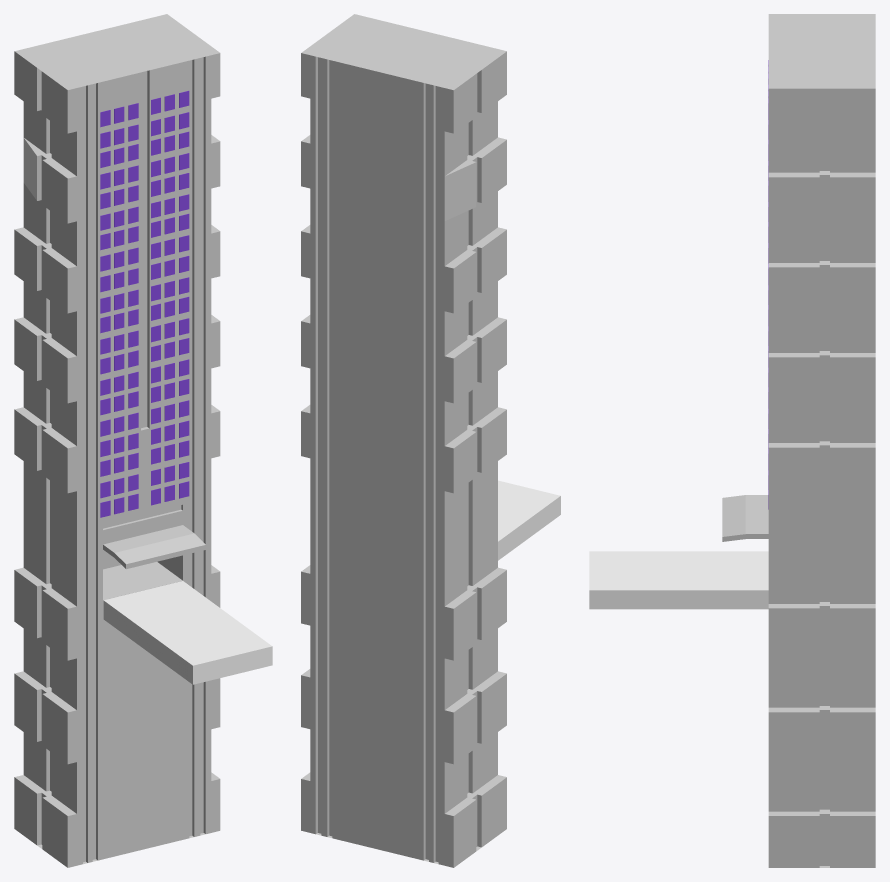
File: Building_V7.fbx
3 views of the same model, side by side, from view 1: azimuth 30°, elevation 25°; view 2: azimuth 150°, elevation 25°; view 3: azimuth 270°, elevation 25° (orthographic).
Parts seen in each view (by area): view 1: Cube, StartPlat; view 2: Cube, StartPlat; view 3: Cube, StartPlat.
Boxes of the visible parts, left/top/right/bottom form: Cube: left=14, top=14, right=220, bottom=867; StartPlat: left=103, top=581, right=272, bottom=684; Cube: left=301, top=14, right=506, bottom=867; StartPlat: left=498, top=480, right=560, bottom=560; Cube: left=722, top=14, right=875, bottom=867; StartPlat: left=589, top=551, right=768, bottom=609.
Bounding box in the file's own units: 6465 × 31467 × 10468.
